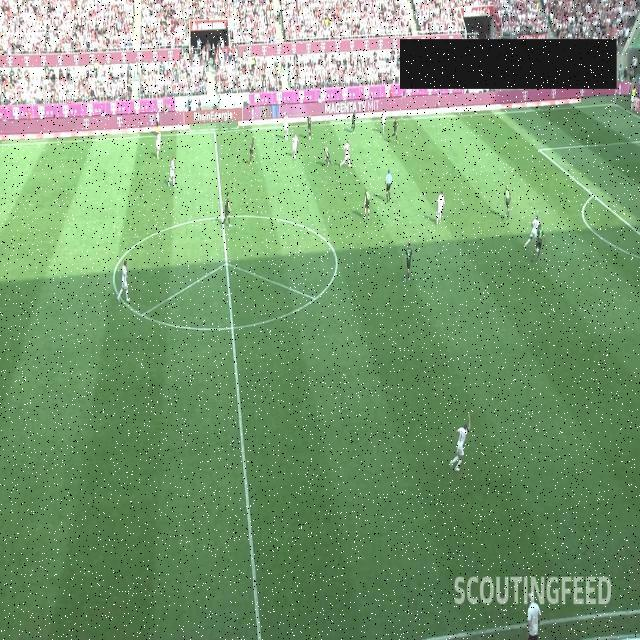Ball: (294, 154, 296, 160)
Corner: (613, 88, 619, 106)
Referee: (385, 169, 393, 203), (154, 108, 162, 136)
TEAM 1: (449, 412, 471, 472), (524, 214, 540, 248), (118, 260, 130, 302), (339, 140, 351, 168), (436, 190, 445, 226), (168, 156, 176, 188), (154, 130, 162, 160), (291, 132, 299, 160), (283, 110, 289, 142), (381, 108, 386, 134)
TEAM 2: (530, 224, 546, 262), (402, 242, 413, 282), (222, 191, 233, 227), (503, 183, 512, 220), (390, 117, 400, 145), (364, 186, 371, 220), (322, 144, 332, 166), (350, 110, 356, 132), (307, 114, 312, 140), (250, 138, 254, 166)
